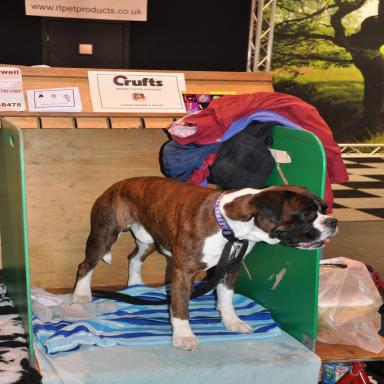plasticbag: (315, 256, 383, 352)
